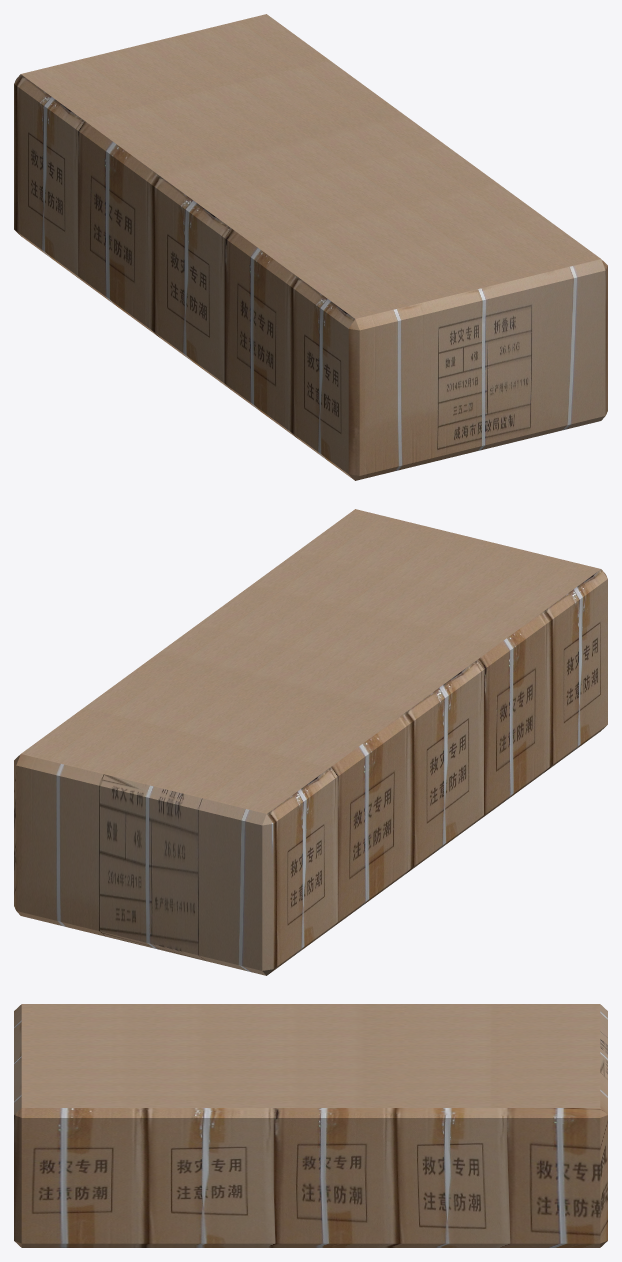
Rendered from zhiyuanzhefu.FBX.
3 views of the same model, one above another, from view 1: azimuth 30°, elevation 25°; view 2: azimuth 150°, elevation 25°; view 3: azimuth 270°, elevation 25° (orthographic). The views are drawn at different scales.
Visible parts, largest first — view 1: Box3717; view 2: Box3717; view 3: Box3717.
Part boxes in pixels (x1,y1,x2,y2): Box3717: [14, 14, 607, 480]; Box3717: [14, 509, 607, 975]; Box3717: [14, 1004, 607, 1247].
Size of the model in its own units: 0.7354 by 1.69 by 0.4388.
